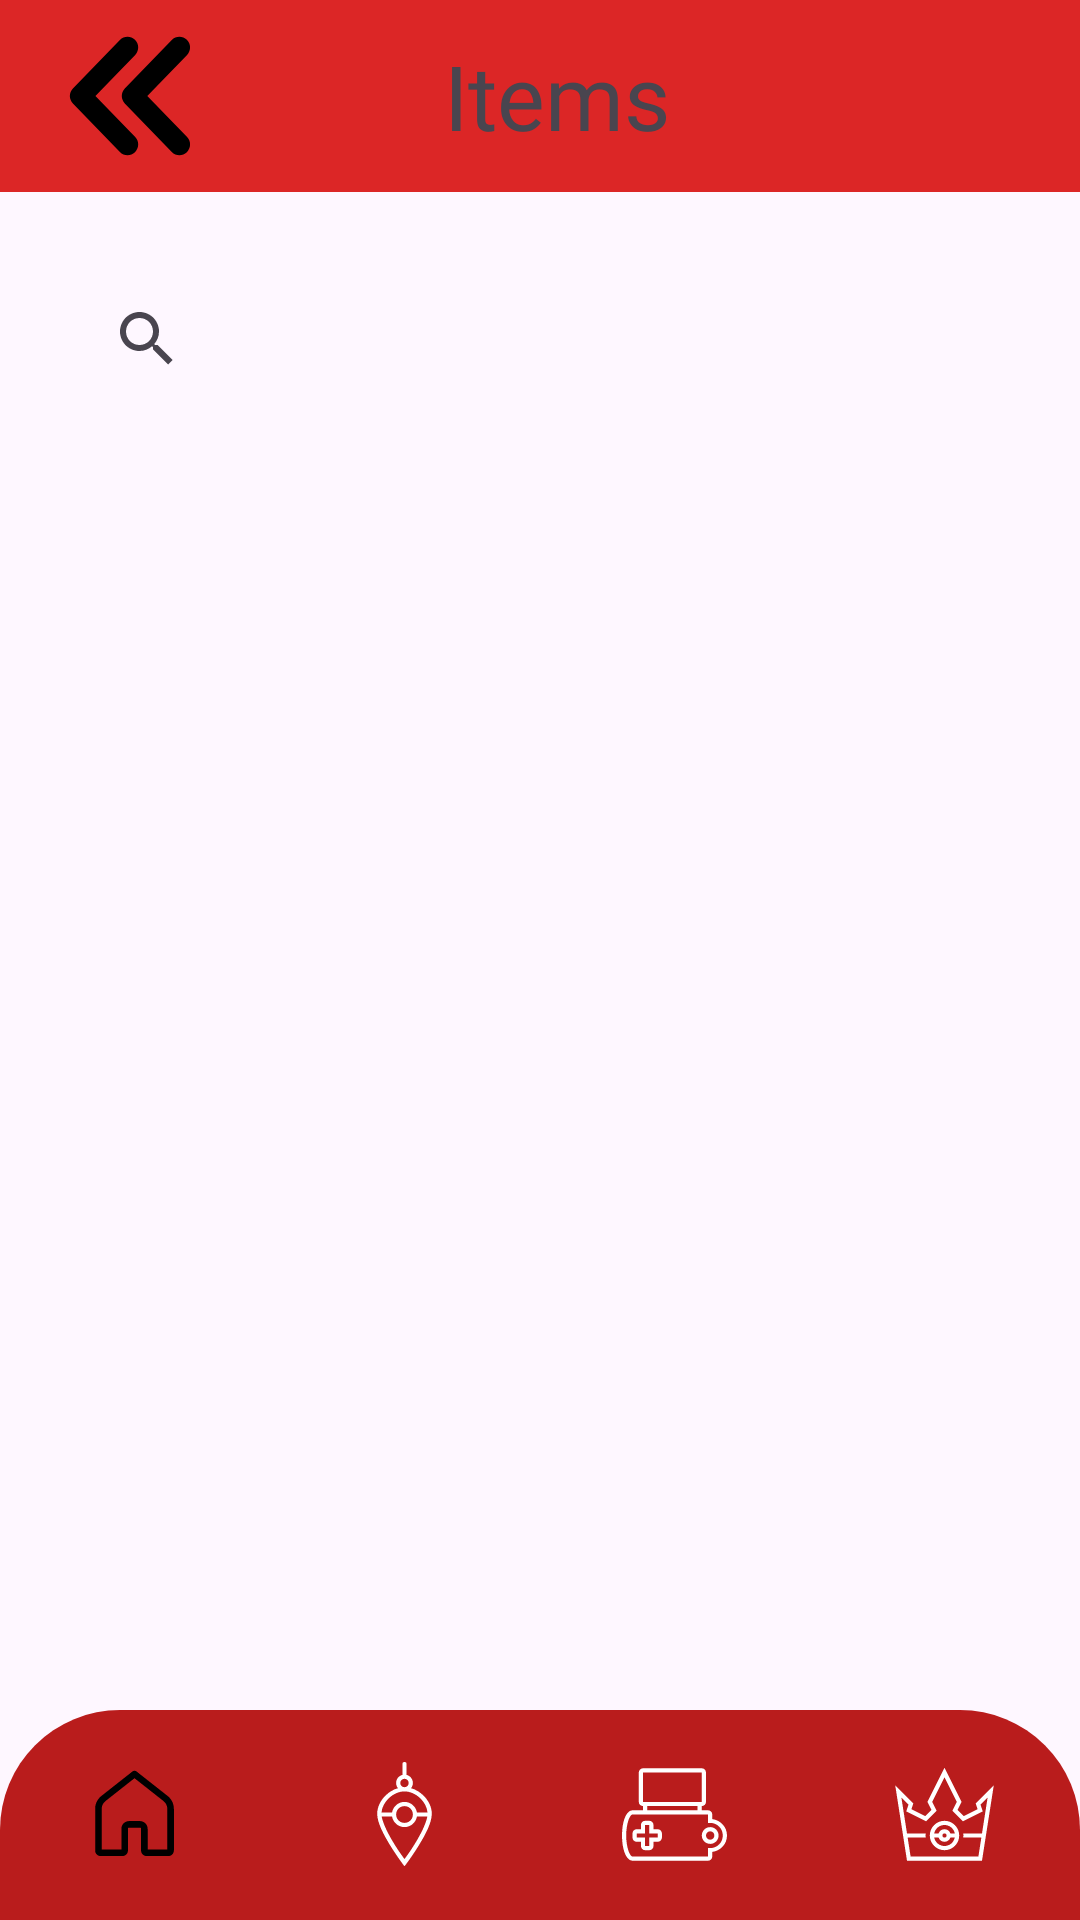

Screen size 1080 x 1920. Icon name, then its box in pixels as detection(x1, y1, x2, y2):
returnback: detection(70, 36, 190, 156)
